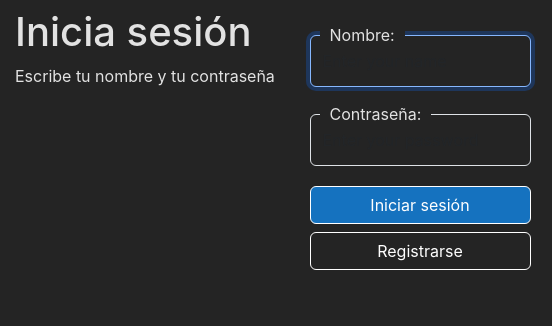
shows error message when fields are empty
This screenshot has width=552, height=326.
Click the button "Iniciar sesión": (420, 205) [310,186,530,224]
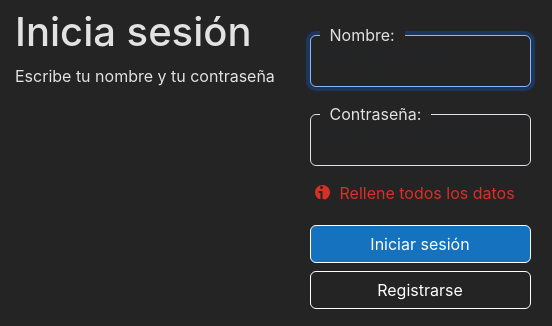
Check: the text "Rellene todos los datos" is shown, box [310,181,530,205]
